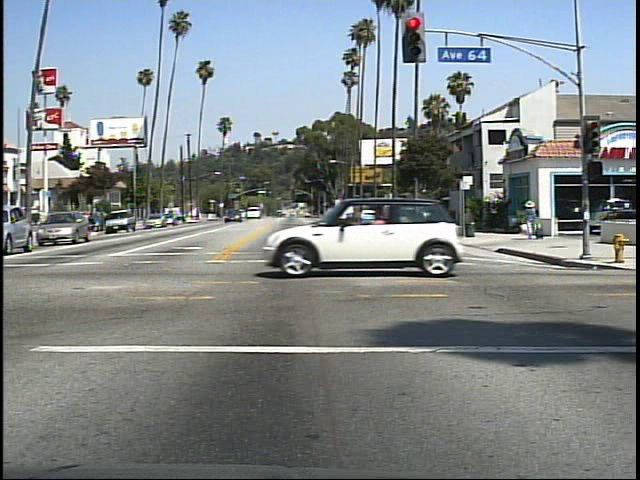person: (520, 197, 543, 243)
